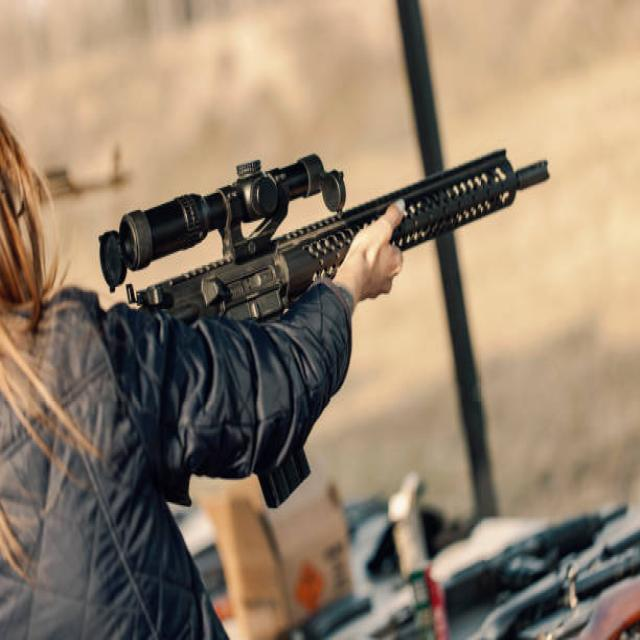Rifle: (98, 149, 547, 323)
